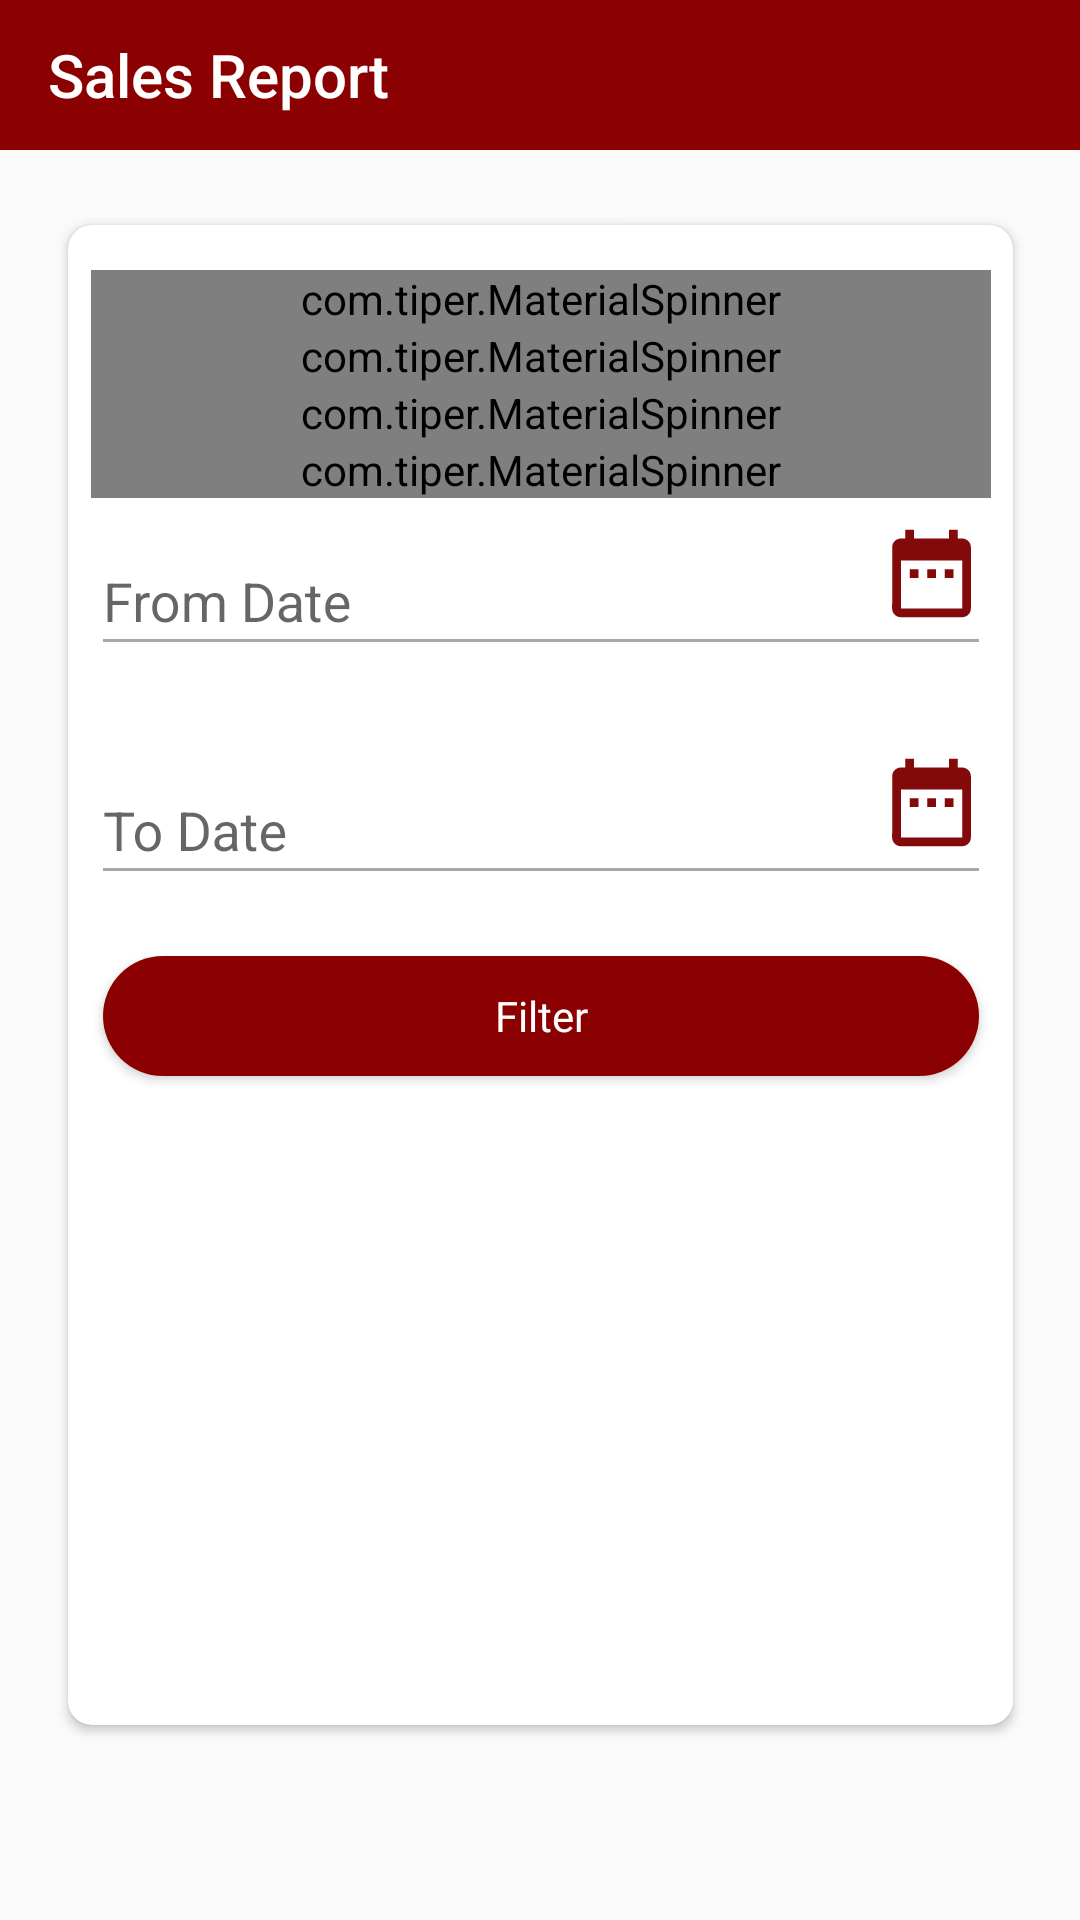

Point at icon controls on the screen. Image size 1080×1920, points as (x=x, y=y).
date range: (x=931, y=573), (x=931, y=802)
